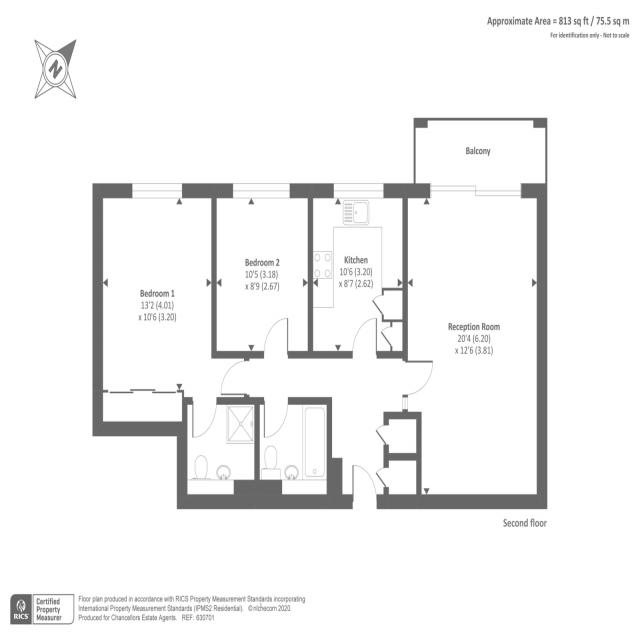DOOR: (351, 461, 380, 510), (189, 397, 219, 441), (262, 397, 291, 441), (262, 316, 291, 359), (350, 316, 379, 359), (219, 358, 250, 397)
ROOM: (401, 183, 548, 510), (92, 183, 251, 436), (211, 183, 314, 360), (307, 183, 408, 359)
SLIDING DOOR: (429, 183, 523, 199)
WINDOW: (129, 179, 184, 203), (231, 181, 292, 200), (332, 180, 386, 201)
